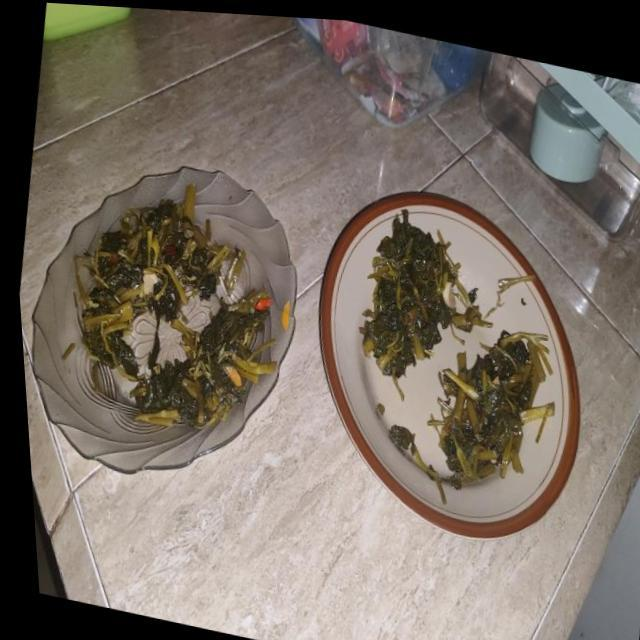tumis_kangkung: (75, 185, 220, 380), (428, 330, 554, 490), (136, 289, 277, 430), (362, 216, 460, 380)
